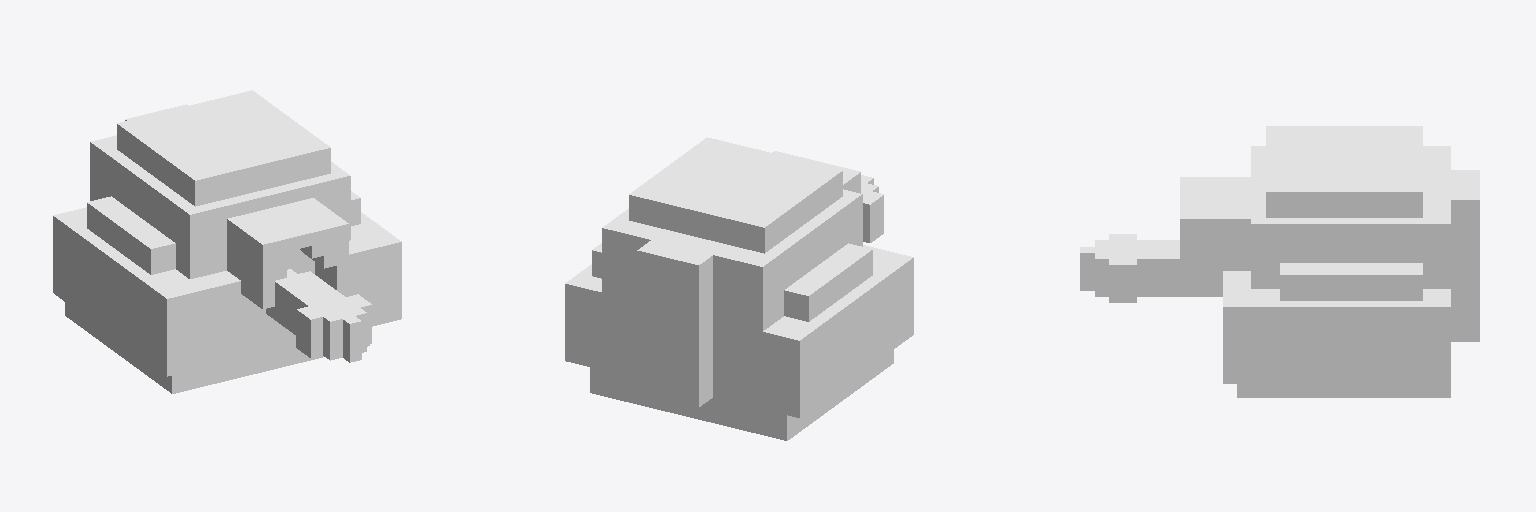
The model's file is RangeTower0_Top.obj.
3 views of the same model, side by side, from view 1: azimuth 30°, elevation 25°; view 2: azimuth 150°, elevation 25°; view 3: azimuth 270°, elevation 25° (orthographic).
Visible parts, largest first — view 1: RangeTower1_Top; view 2: RangeTower1_Top; view 3: RangeTower1_Top.
Part boxes in pixels (left/top/right/bottom): RangeTower1_Top: left=53, top=90, right=401, bottom=393; RangeTower1_Top: left=565, top=137, right=913, bottom=440; RangeTower1_Top: left=1080, top=126, right=1479, bottom=397.
Bounding box in the file's own units: 19 × 15 × 28.